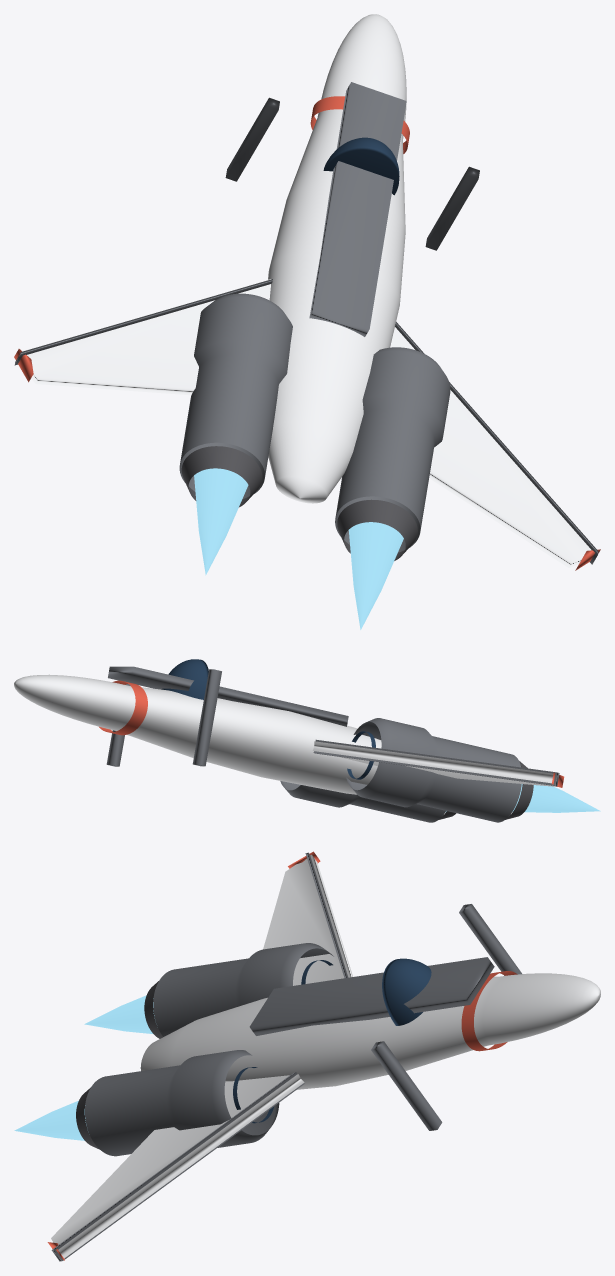
File: ship.glb
The picture shows the model from 3 angles, top to bottom: view 1: azimuth 30°, elevation 25°; view 2: azimuth 150°, elevation 25°; view 3: azimuth 270°, elevation 25°; orthographic projection. The views are drawn at different scales.
Parts seen in each view (by area): view 1: Fuselage, Wing, Nacelle, Nacelle.001, Spine, Flame_Engine.001, Flame_Engine, WingEdge, Nozzle.002, Nozzle.003, Canopy, Cannon (+1 smaller); view 2: Fuselage, Nacelle, Wing, Spine, Nacelle.001, Flame_Engine, WingEdge, Cannon, Canopy, Accent, Cannon.001, Nozzle.002 (+1 smaller); view 3: Fuselage, Wing, Nacelle.001, Spine, Nacelle, WingEdge, Canopy, Cannon.001, Flame_Engine.001, Flame_Engine, Cannon, Accent.
Part boxes in pixels (x1=…): Fuselage: x1=268, y1=14, x2=406, y2=503; Wing: x1=22, y1=279, x2=591, y2=567; Nacelle: x1=179, y1=293, x2=292, y2=498; Nacelle.001: x1=335, y1=347, x2=450, y2=552; Spine: x1=309, y1=82, x2=406, y2=336; Flame_Engine.001: x1=348, y1=522, x2=403, y2=629; Flame_Engine: x1=194, y1=468, x2=248, y2=575; WingEdge: x1=14, y1=279, x2=598, y2=564; Nozzle.002: x1=181, y1=446, x2=262, y2=507; Nozzle.003: x1=337, y1=499, x2=417, y2=560; Canopy: x1=323, y1=137, x2=399, y2=195; Cannon: x1=225, y1=97, x2=279, y2=181; Fuselage: x1=14, y1=674, x2=381, y2=794; Nacelle: x1=346, y1=718, x2=521, y2=822; Wing: x1=312, y1=741, x2=557, y2=786; Spine: x1=108, y1=666, x2=348, y2=726; Nacelle.001: x1=280, y1=781, x2=445, y2=822; Flame_Engine: x1=512, y1=784, x2=600, y2=812; WingEdge: x1=313, y1=739, x2=559, y2=786; Cannon: x1=192, y1=669, x2=221, y2=766; Canopy: x1=161, y1=659, x2=208, y2=699; Accent: x1=99, y1=680, x2=147, y2=735; Cannon.001: x1=106, y1=684, x2=130, y2=766; Nozzle.002: x1=505, y1=761, x2=533, y2=819; Fuselage: x1=140, y1=973, x2=600, y2=1089; Wing: x1=51, y1=854, x2=352, y2=1258; Nacelle.001: x1=85, y1=1050, x2=279, y2=1156; Spine: x1=249, y1=957, x2=494, y2=1035; Nacelle: x1=153, y1=943, x2=333, y2=1036; WingEdge: x1=51, y1=852, x2=348, y2=1261; Canopy: x1=382, y1=958, x2=431, y2=1025; Cannon.001: x1=371, y1=1041, x2=442, y2=1130; Flame_Engine.001: x1=14, y1=1100, x2=86, y2=1140; Flame_Engine: x1=84, y1=995, x2=154, y2=1034; Cannon: x1=459, y1=904, x2=521, y2=975; Accent: x1=461, y1=971, x2=517, y2=1051.
Bounding box in the file's own units: 5.05 × 3.06 × 5.24.
